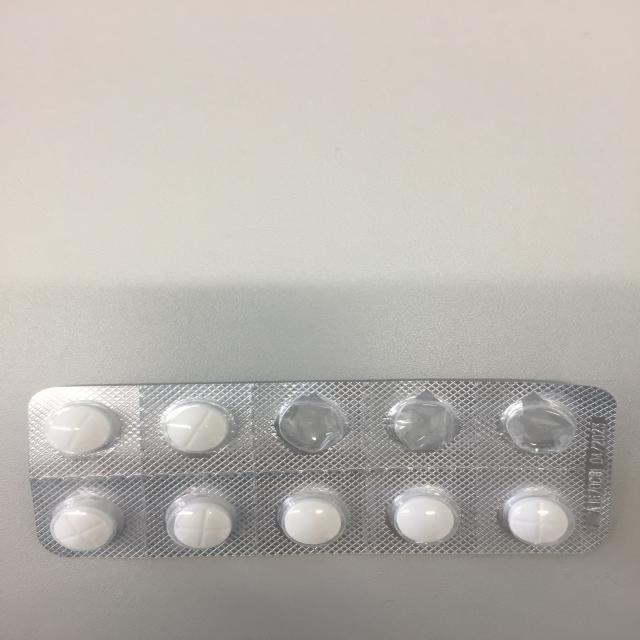Empty: (493, 388, 584, 458), (376, 388, 462, 457), (264, 389, 348, 457)
Pill: (29, 398, 125, 464), (163, 486, 246, 556), (496, 485, 586, 549), (268, 484, 356, 549), (379, 484, 464, 549), (39, 494, 126, 557), (152, 396, 239, 458)
